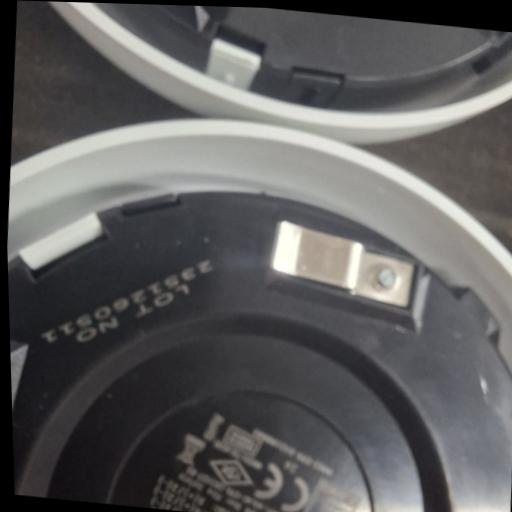yaysiz: (263, 218, 422, 309)
